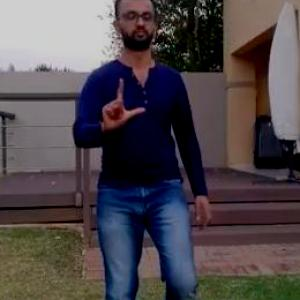land_hand: (96, 72, 151, 140)
